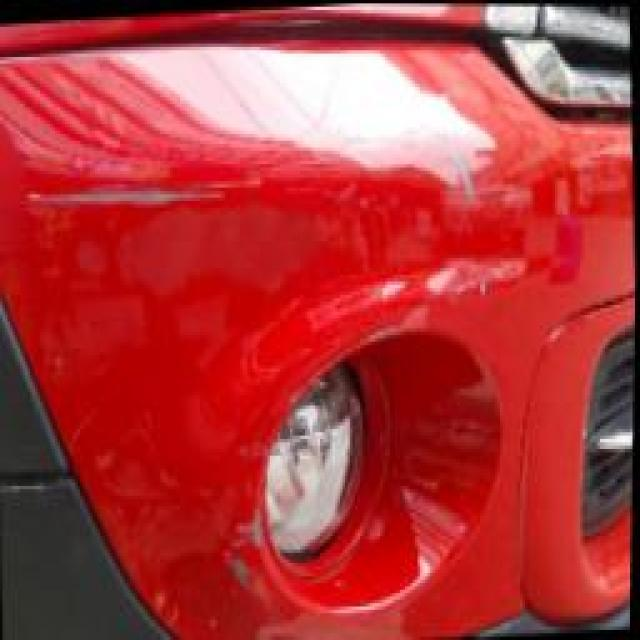Bumper: (32, 94, 607, 640)
